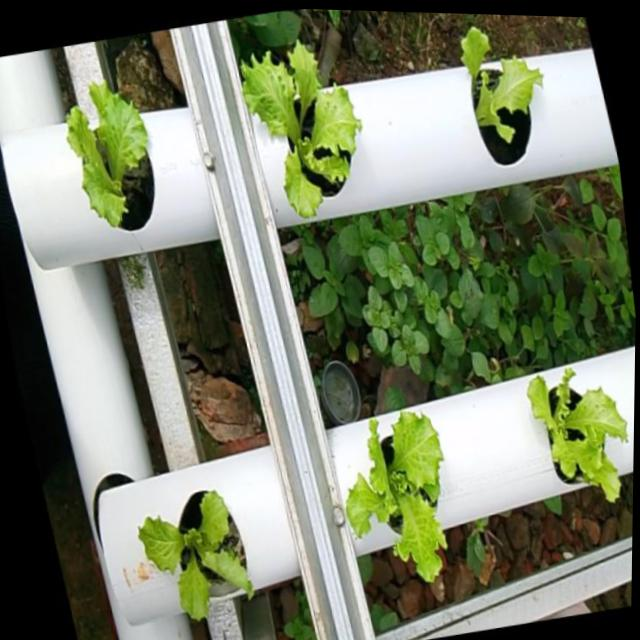Baby: (235, 35, 358, 215), (341, 407, 442, 578), (133, 484, 249, 616), (522, 367, 621, 501), (63, 78, 151, 226), (458, 28, 539, 167)
